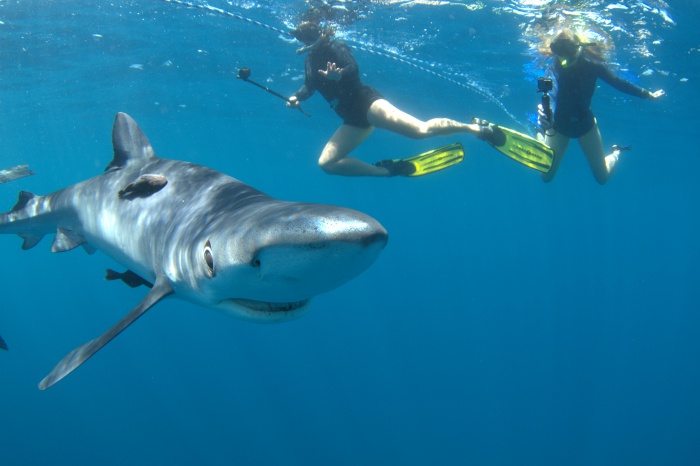Azul: (5, 91, 407, 426), (239, 176, 656, 443)
